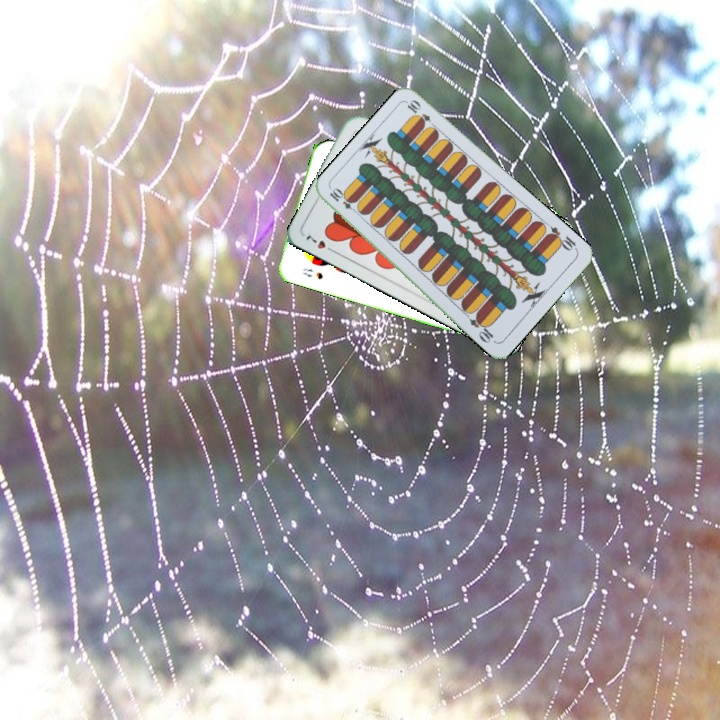E10: (543, 223, 580, 254), (325, 185, 361, 216)
H7: (301, 229, 338, 255)
S8: (298, 264, 325, 282)
